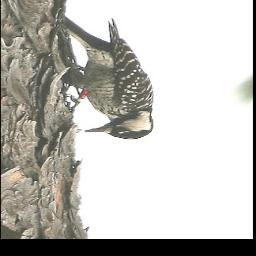Woodpecker: (57, 15, 154, 140)
